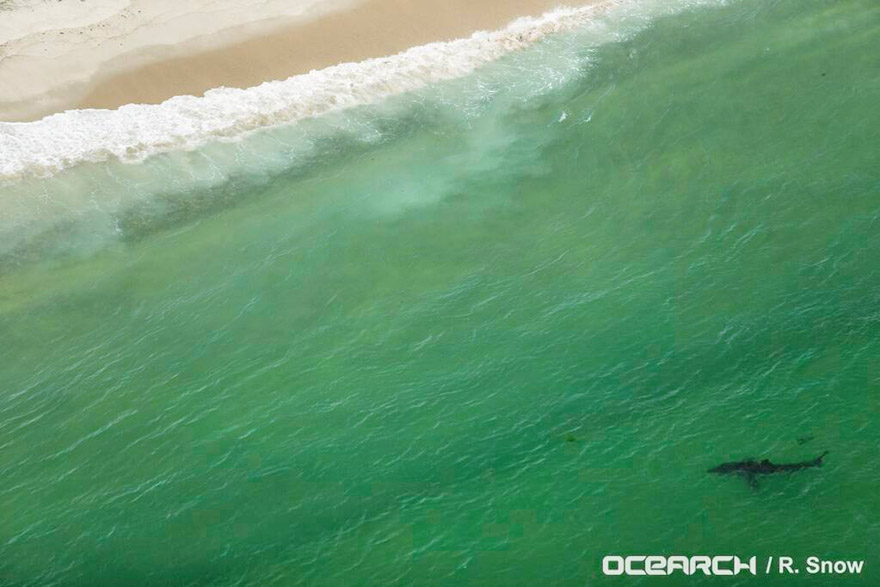shark: (701, 447, 828, 497)
